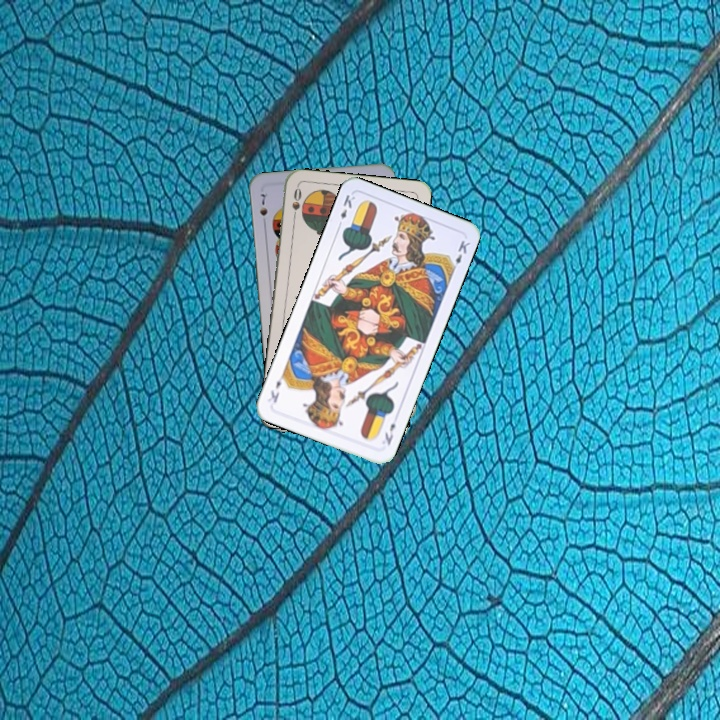EK: (334, 190, 358, 230), (381, 419, 398, 448)
S7: (256, 189, 270, 228)
SO: (288, 183, 304, 224)
